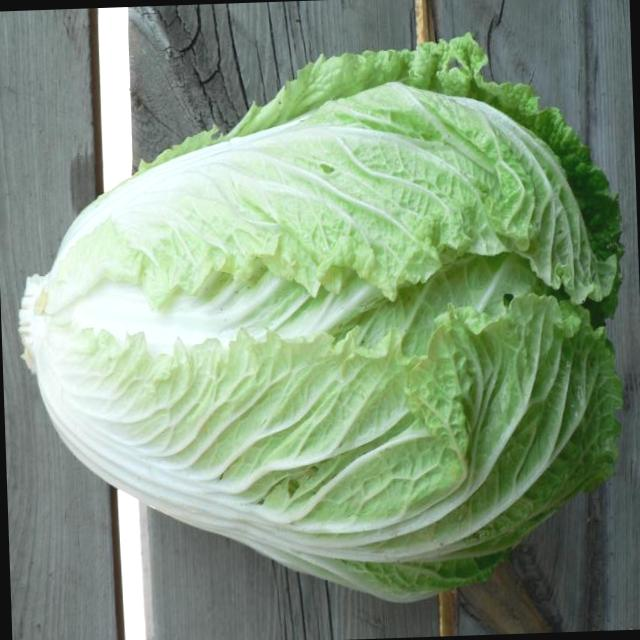cabbage: (9, 45, 618, 619)
